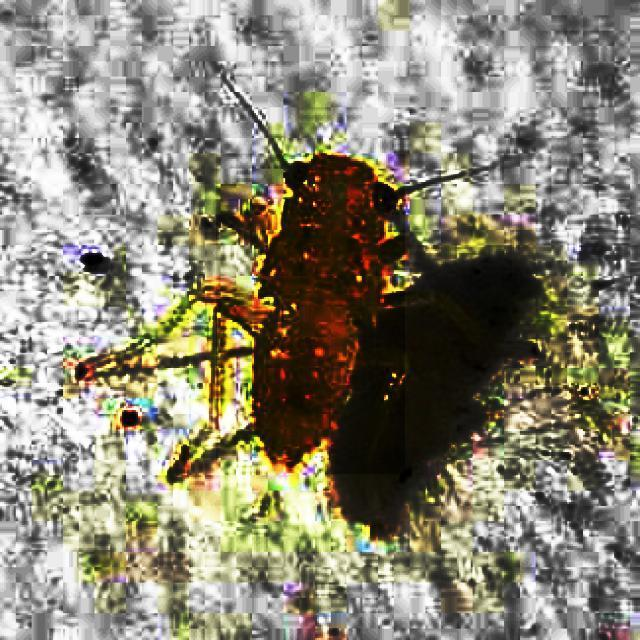green-leafhopper: (216, 154, 405, 474)
